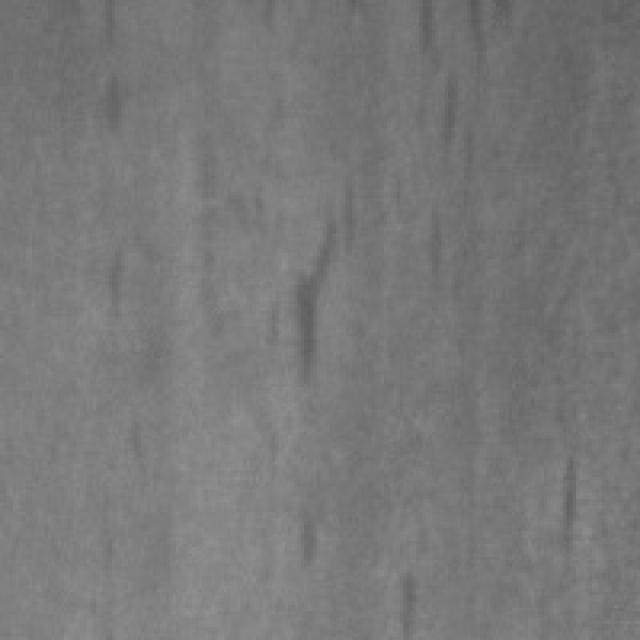inclusion: (400, 0, 499, 310), (237, 182, 365, 390), (528, 435, 598, 563), (86, 233, 134, 329), (86, 64, 132, 144)
